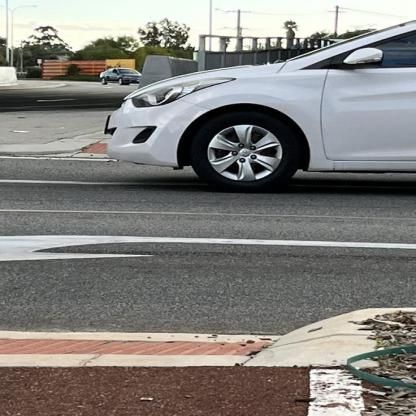Tire: (188, 111, 300, 193)
